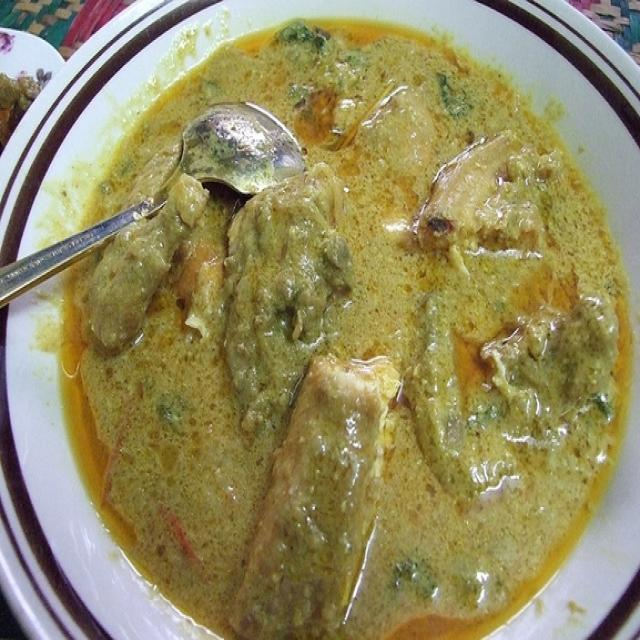熟制海鲜: (30, 31, 616, 634)
